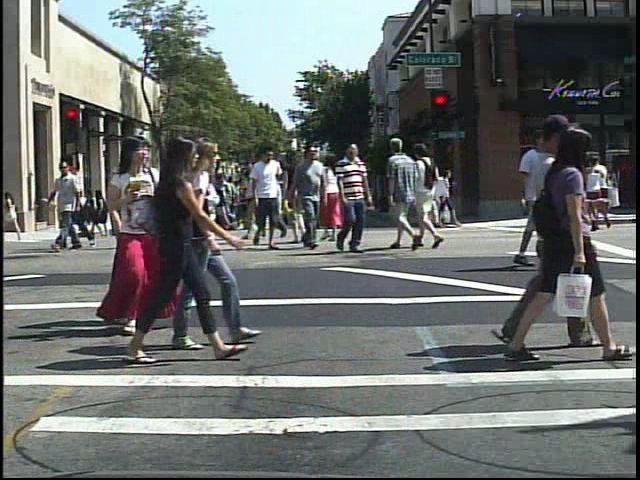person: (508, 114, 623, 373), (501, 106, 606, 359), (128, 131, 218, 369), (104, 131, 183, 338), (187, 134, 261, 353), (112, 130, 159, 336), (504, 124, 562, 271), (328, 141, 377, 257), (286, 142, 325, 250), (292, 141, 330, 251), (161, 154, 202, 253), (387, 135, 421, 253), (249, 144, 283, 256), (417, 137, 448, 250), (321, 147, 354, 248), (126, 158, 161, 245), (533, 154, 561, 238), (235, 167, 255, 236), (62, 183, 83, 233)
